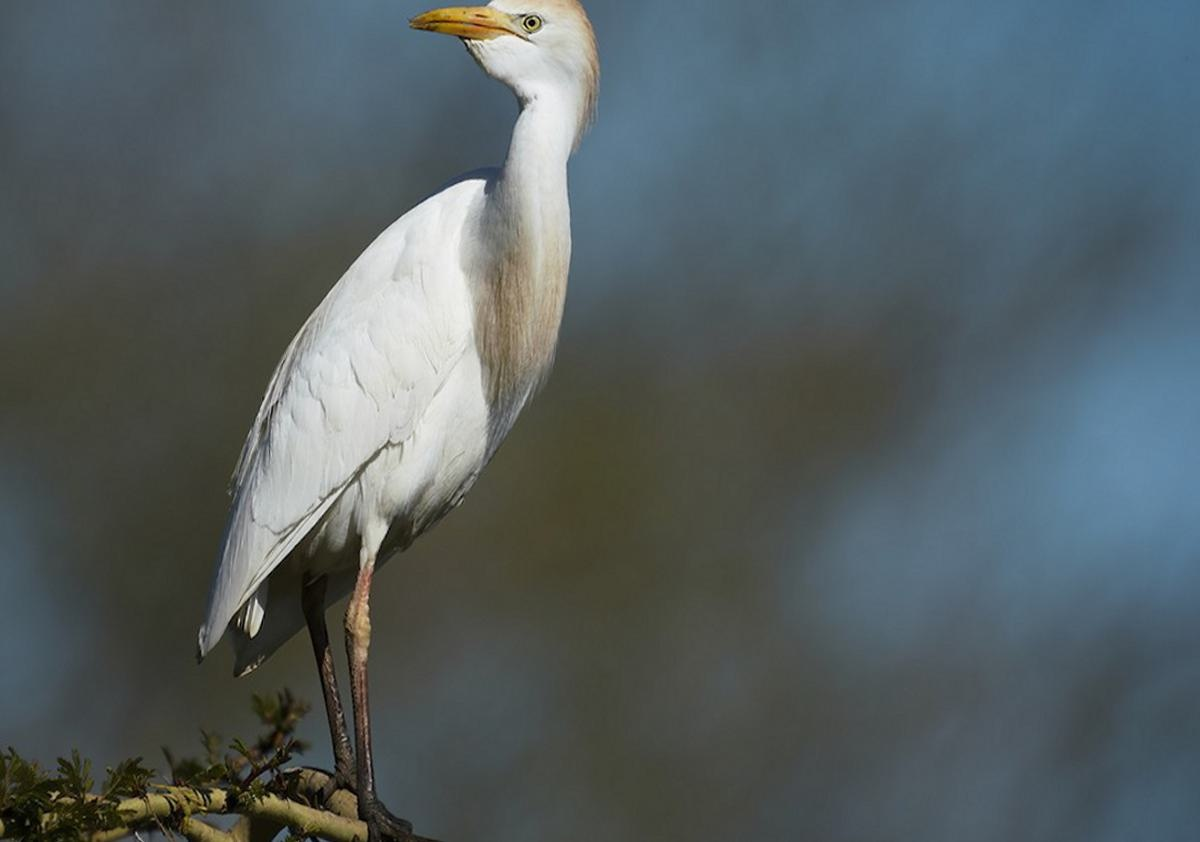egret: (184, 5, 699, 785)
